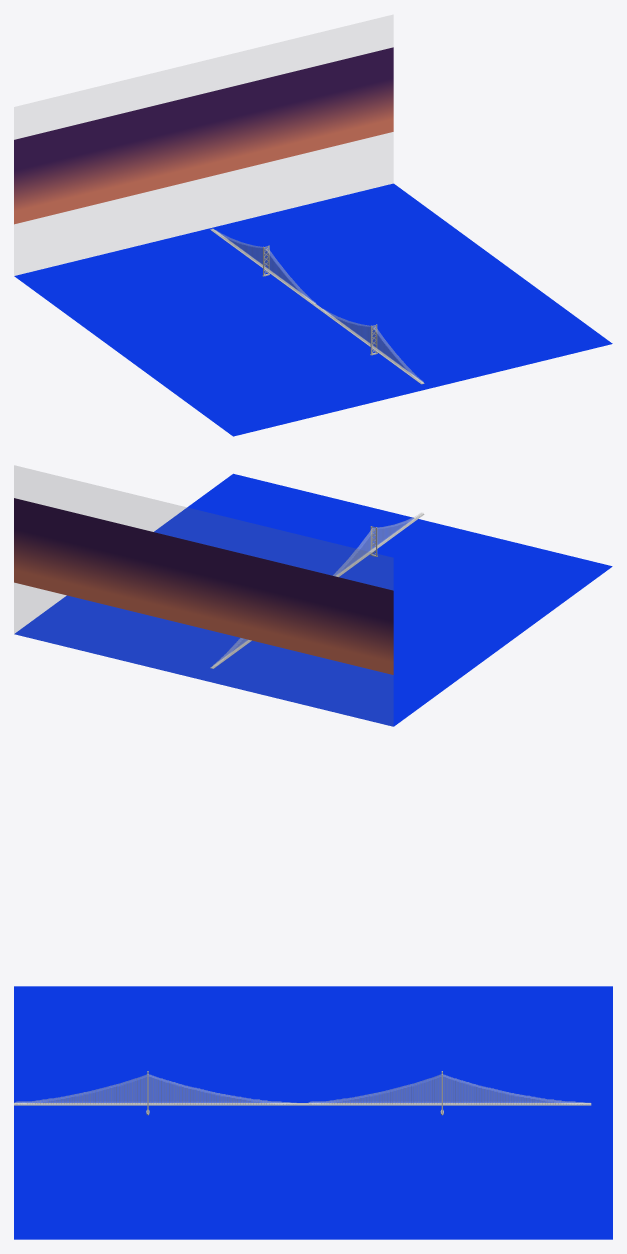
The model's file is asset.glb.
3 views of the same model, one above another, from view 1: azimuth 30°, elevation 25°; view 2: azimuth 150°, elevation 25°; view 3: azimuth 270°, elevation 25° (orthographic). The views are drawn at different scales.
Visible parts, largest first — view 1: umi, 平面, turibasi, michi; view 2: 平面, umi, turibasi, michi; view 3: umi, turibasi, michi.
Boxes of the visible parts, box(x1,y1,x2,y2) form: umi: box(14, 183, 612, 436); 平面: box(14, 15, 393, 275); turibasi: box(211, 228, 423, 383); michi: box(210, 229, 424, 384); 平面: box(14, 465, 393, 725); umi: box(14, 473, 612, 726); turibasi: box(211, 512, 423, 667); michi: box(210, 513, 424, 668); umi: box(14, 986, 612, 1239); turibasi: box(14, 1074, 591, 1104); michi: box(14, 1103, 591, 1105).
Size of the model in its own units: 0.4882 by 0.2077 by 0.4882.
Materials: 4 (2 with a texture image).
